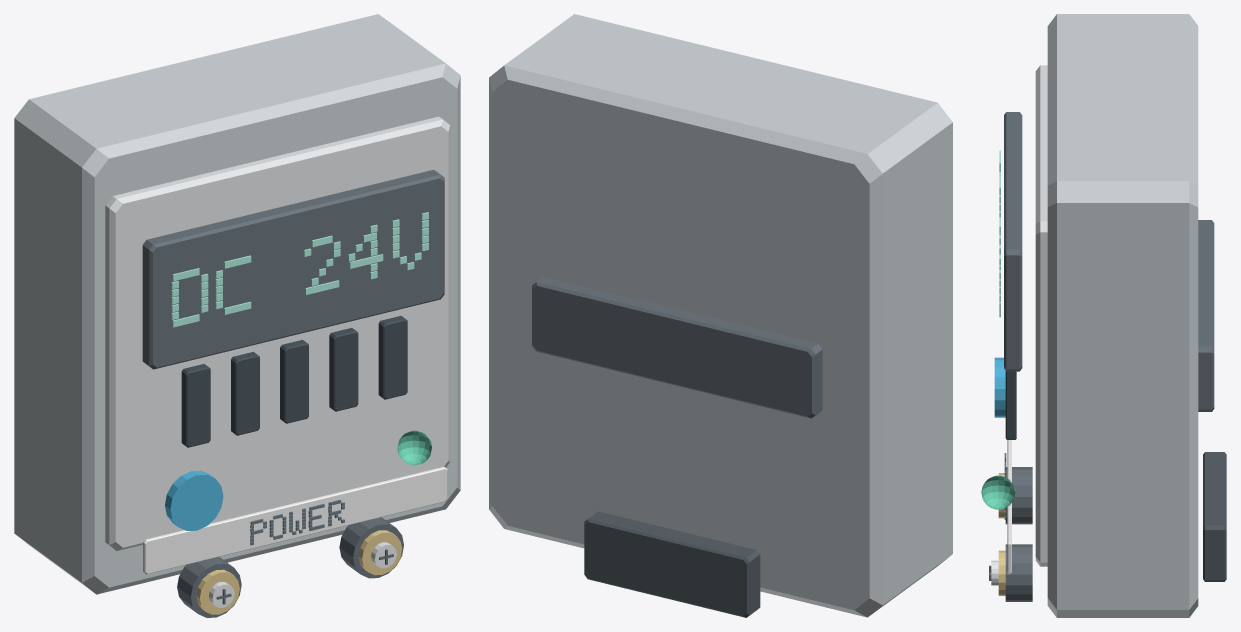
Rendered from dcSupply.glb.
3 views of the same model, side by side, from view 1: azimuth 30°, elevation 25°; view 2: azimuth 150°, elevation 25°; view 3: azimuth 270°, elevation 25° (orthographic). The views are drawn at different scales.
Visible parts, largest first — view 1: dcSupply-preview; view 2: dcSupply-preview; view 3: dcSupply-preview.
Boxes of the visible parts, x1,y1,x2,y2 form: dcSupply-preview: (14, 14, 460, 617); dcSupply-preview: (489, 14, 952, 617); dcSupply-preview: (981, 14, 1226, 617).
Size of the model in its own units: 2.33 by 2.78 by 1.34.
